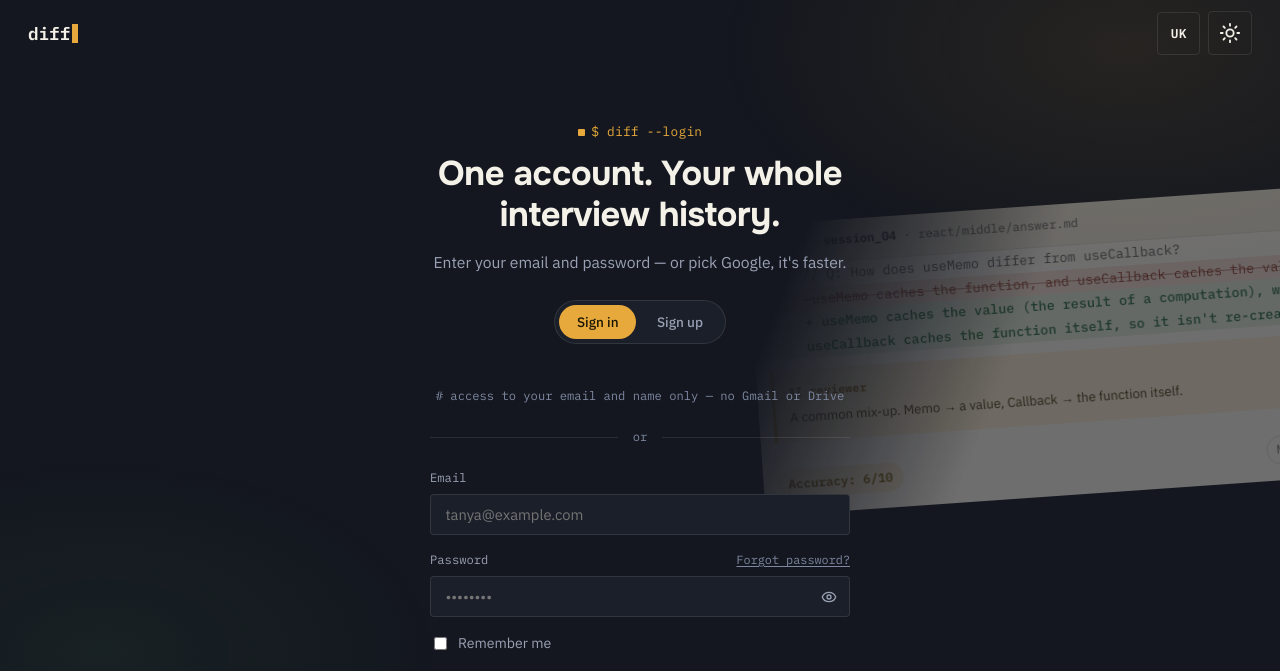
Test: LoginPage i18n › renders the sign-up form in English after switching the tab
The width and height of the screenshot is (1280, 671).
Click the tab "Sign up": (680, 322) [639,305,721,339]
(page scrolled)
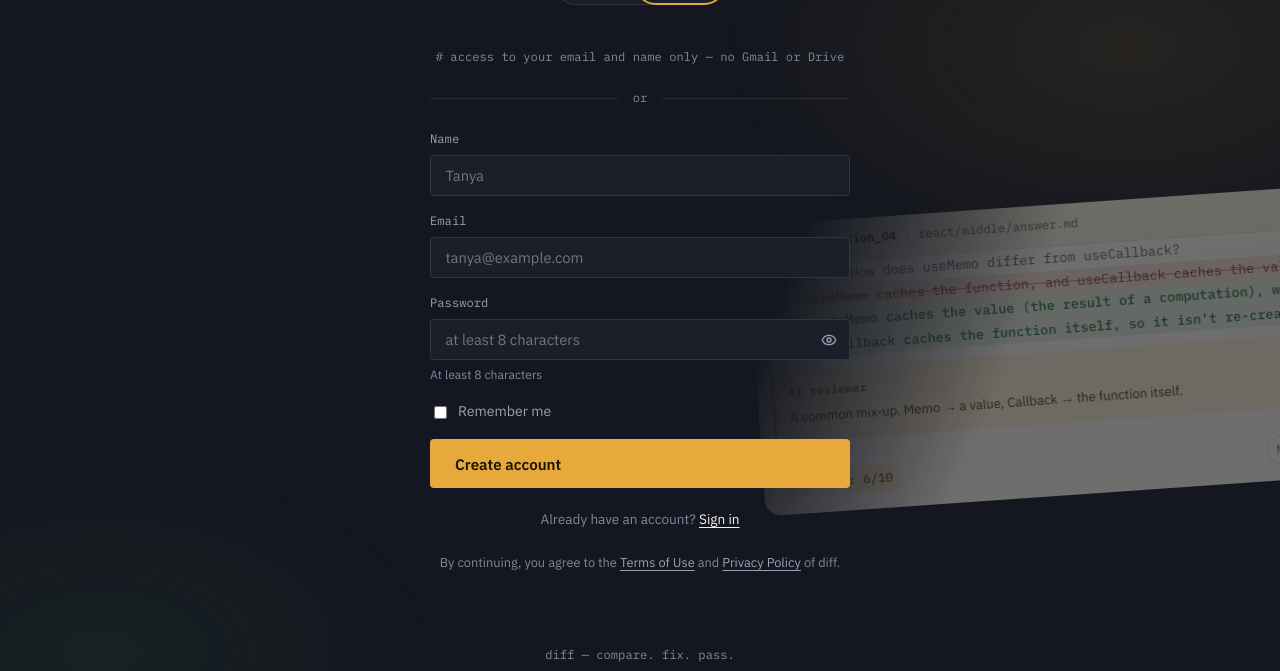
Expected: the button "Create account" is shown, [430,439,850,488]
Expected: the text "At least 8 characters" is shown, [430,368,542,382]
Expected: the text "Already have an account?" is shown, [540,510,696,528]
